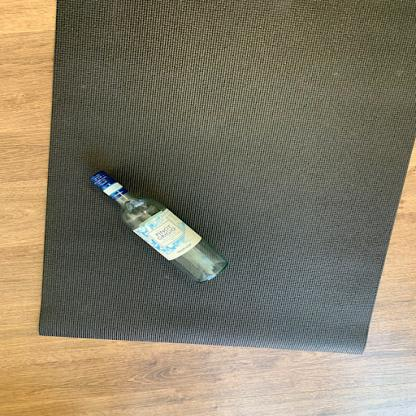trash: (89, 169, 234, 286)
